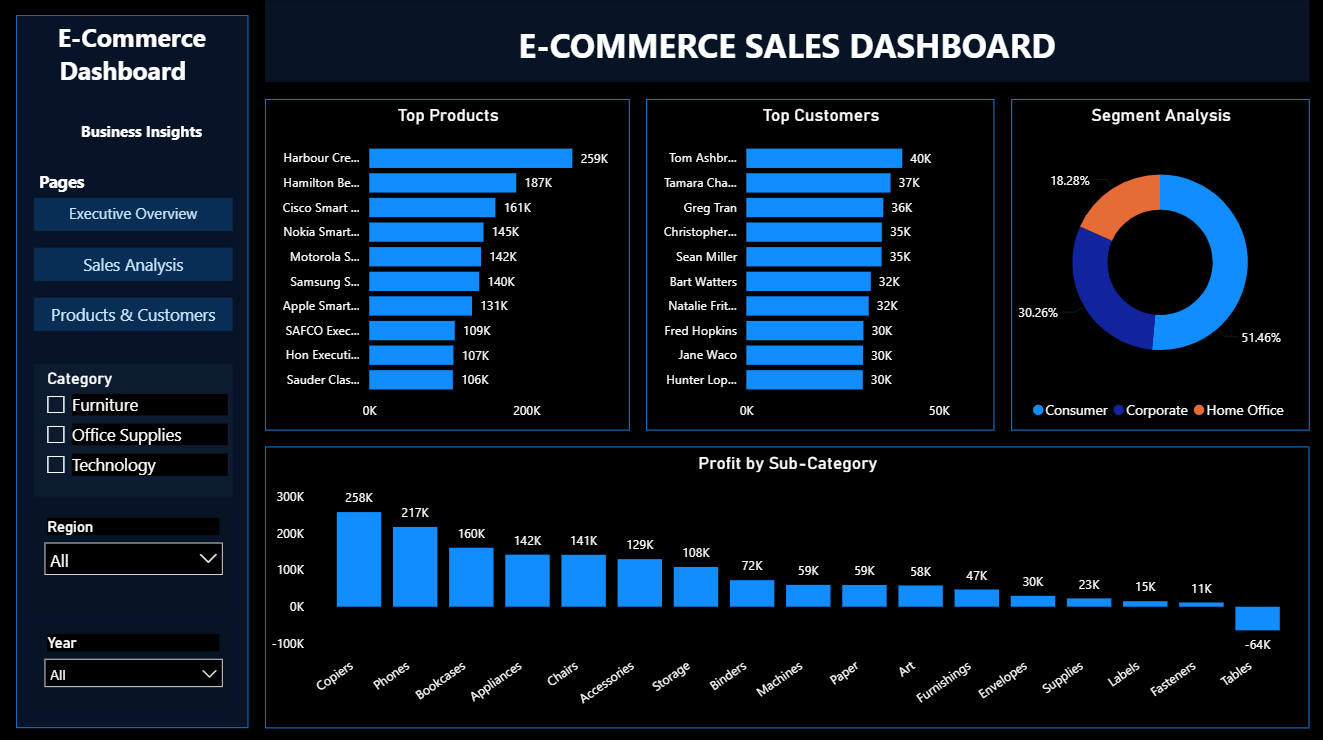

The dashboard page shown, as its layout file describes it:
{"tool":"powerbi","page":{"name":"Product & Customer Insights","canvas":[1280,720],"ordinal":2},"visuals":[{"type":"shape","box":[16,16,224,688],"z":1000},{"type":"textbox","box":[32,16,192,112],"z":2000},{"type":"textbox","box":[32,112,208,48],"z":3000},{"type":"textbox","box":[32,160,208,32],"z":4000},{"type":"textbox","box":[32,192,192,32],"z":5000},{"type":"textbox","box":[32,240,192,32],"z":6000},{"type":"textbox","box":[32,288,192,32],"z":7000},{"type":"textbox","box":[256,0,1008,80],"z":8000},{"type":"slicer","title":"Year","fields":{"Values":["sales_data.category"]},"box":[32,352,192,128],"z":9000},{"type":"slicer","title":"Region","fields":{"Values":["sales_data.region"]},"box":[32,496,192,96],"z":10000},{"type":"slicer","title":"Year","fields":{"Values":["sales_data.year"]},"box":[32,608,192,80],"z":11000},{"type":"actionButton","box":[32,192,192,32],"z":12000},{"type":"actionButton","box":[32,240,192,32],"z":13000},{"type":"actionButton","box":[32,288,192,32],"z":14000},{"type":"barChart","title":"Top Products","fields":{"Category":["sales_data.Short product name"],"Y":["Sum(sales_data.sales)"]},"box":[256,96,352,320],"z":15000},{"type":"barChart","title":"Top Customers","fields":{"Category":["sales_data.customer_name"],"Y":["Sum(sales_data.sales)"]},"box":[624,96,336,320],"z":16000},{"type":"donutChart","title":"Segment Analysis","fields":{"Category":["sales_data.segment"],"Y":["Sum(sales_data.sales)"]},"box":[976,96,288,320],"z":17000},{"type":"columnChart","title":"Profit by Sub-Category","fields":{"Category":["sales_data.sub_category"],"Y":["Sum(sales_data.profit)"]},"box":[256,432,1008,272],"z":18000}]}

Visuals, with their boxes in screenshot pixels (x1, y1, x2, y2), scaled from the page's 1280x720 canvas onto the 1323x740 screenshot:
shape: 17, 16, 248, 724
textbox: 33, 16, 232, 132
textbox: 33, 115, 248, 164
textbox: 33, 164, 248, 197
textbox: 33, 197, 232, 230
textbox: 33, 247, 232, 280
textbox: 33, 296, 232, 329
textbox: 265, 0, 1306, 82
"Year" slicer: 33, 362, 232, 493
"Region" slicer: 33, 510, 232, 608
"Year" slicer: 33, 625, 232, 707
actionButton: 33, 197, 232, 230
actionButton: 33, 247, 232, 280
actionButton: 33, 296, 232, 329
"Top Products" barChart: 265, 99, 628, 428
"Top Customers" barChart: 645, 99, 992, 428
"Segment Analysis" donutChart: 1009, 99, 1306, 428
"Profit by Sub-Category" columnChart: 265, 444, 1306, 724
